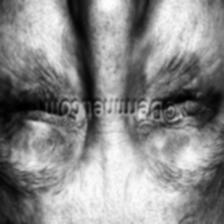Toxin: (138, 121, 190, 163), (161, 53, 203, 91)
